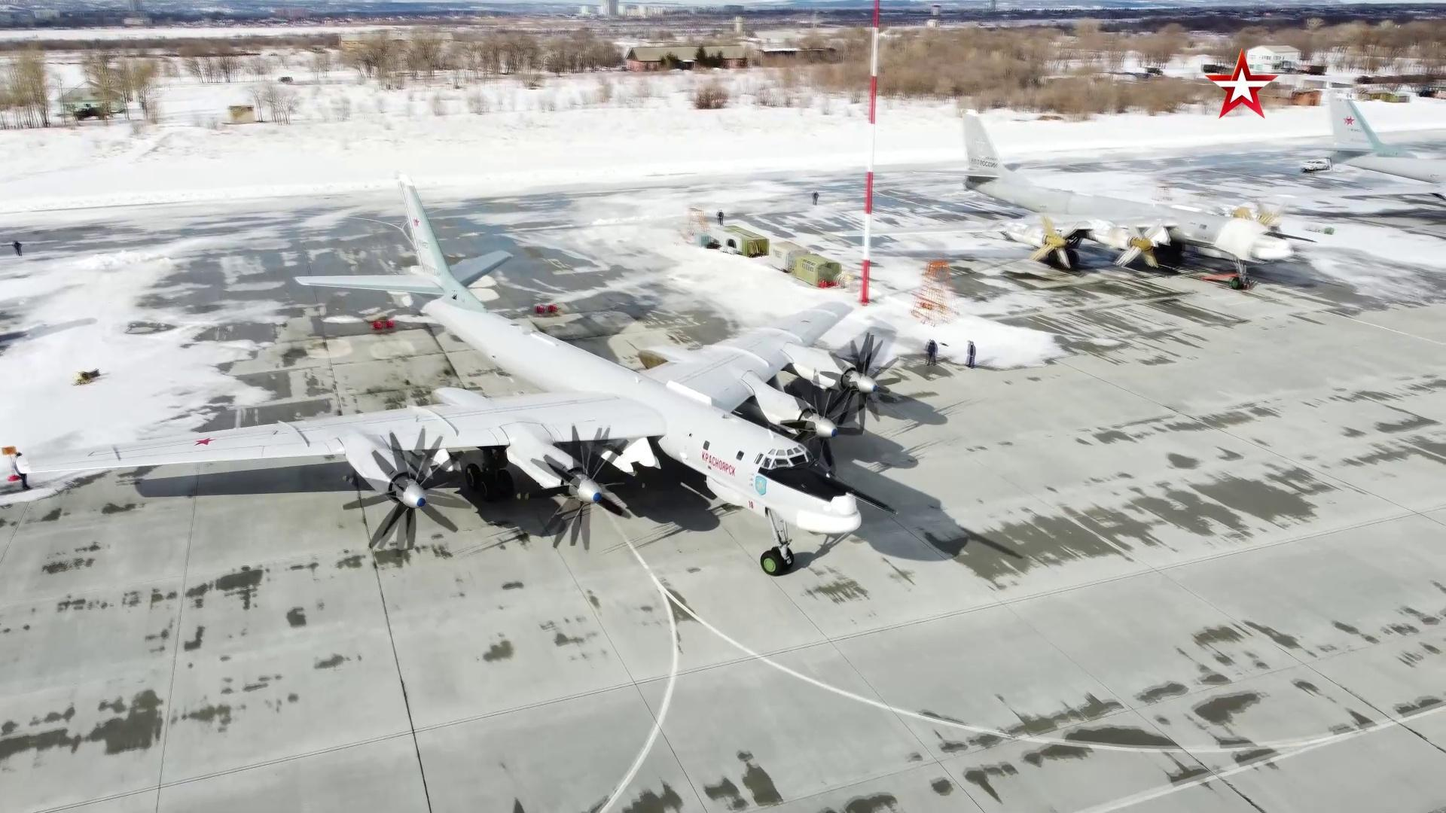person: (924, 337, 940, 370), (965, 340, 978, 367)
plane: (13, 175, 901, 576), (826, 111, 1316, 290), (1324, 93, 1446, 218)
